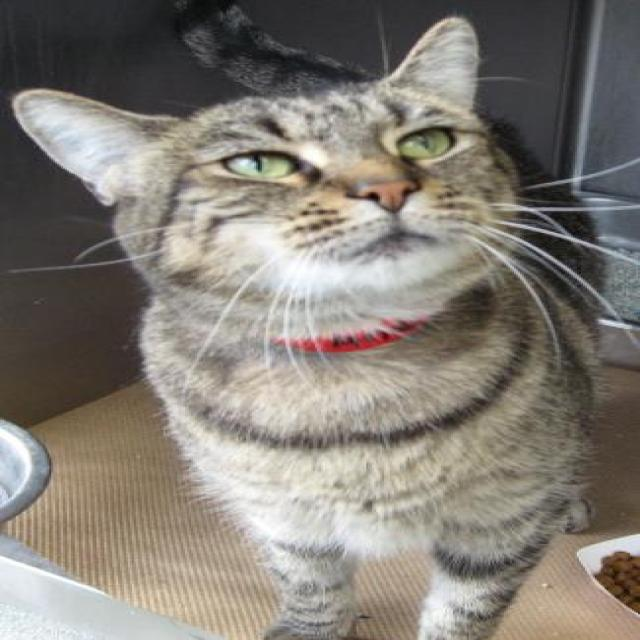Cats: (8, 0, 638, 639)
